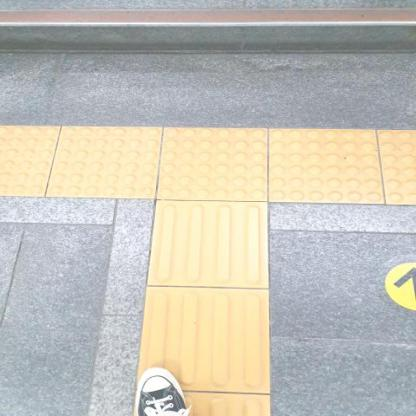podotacti: (0, 123, 415, 204), (133, 205, 271, 414)
